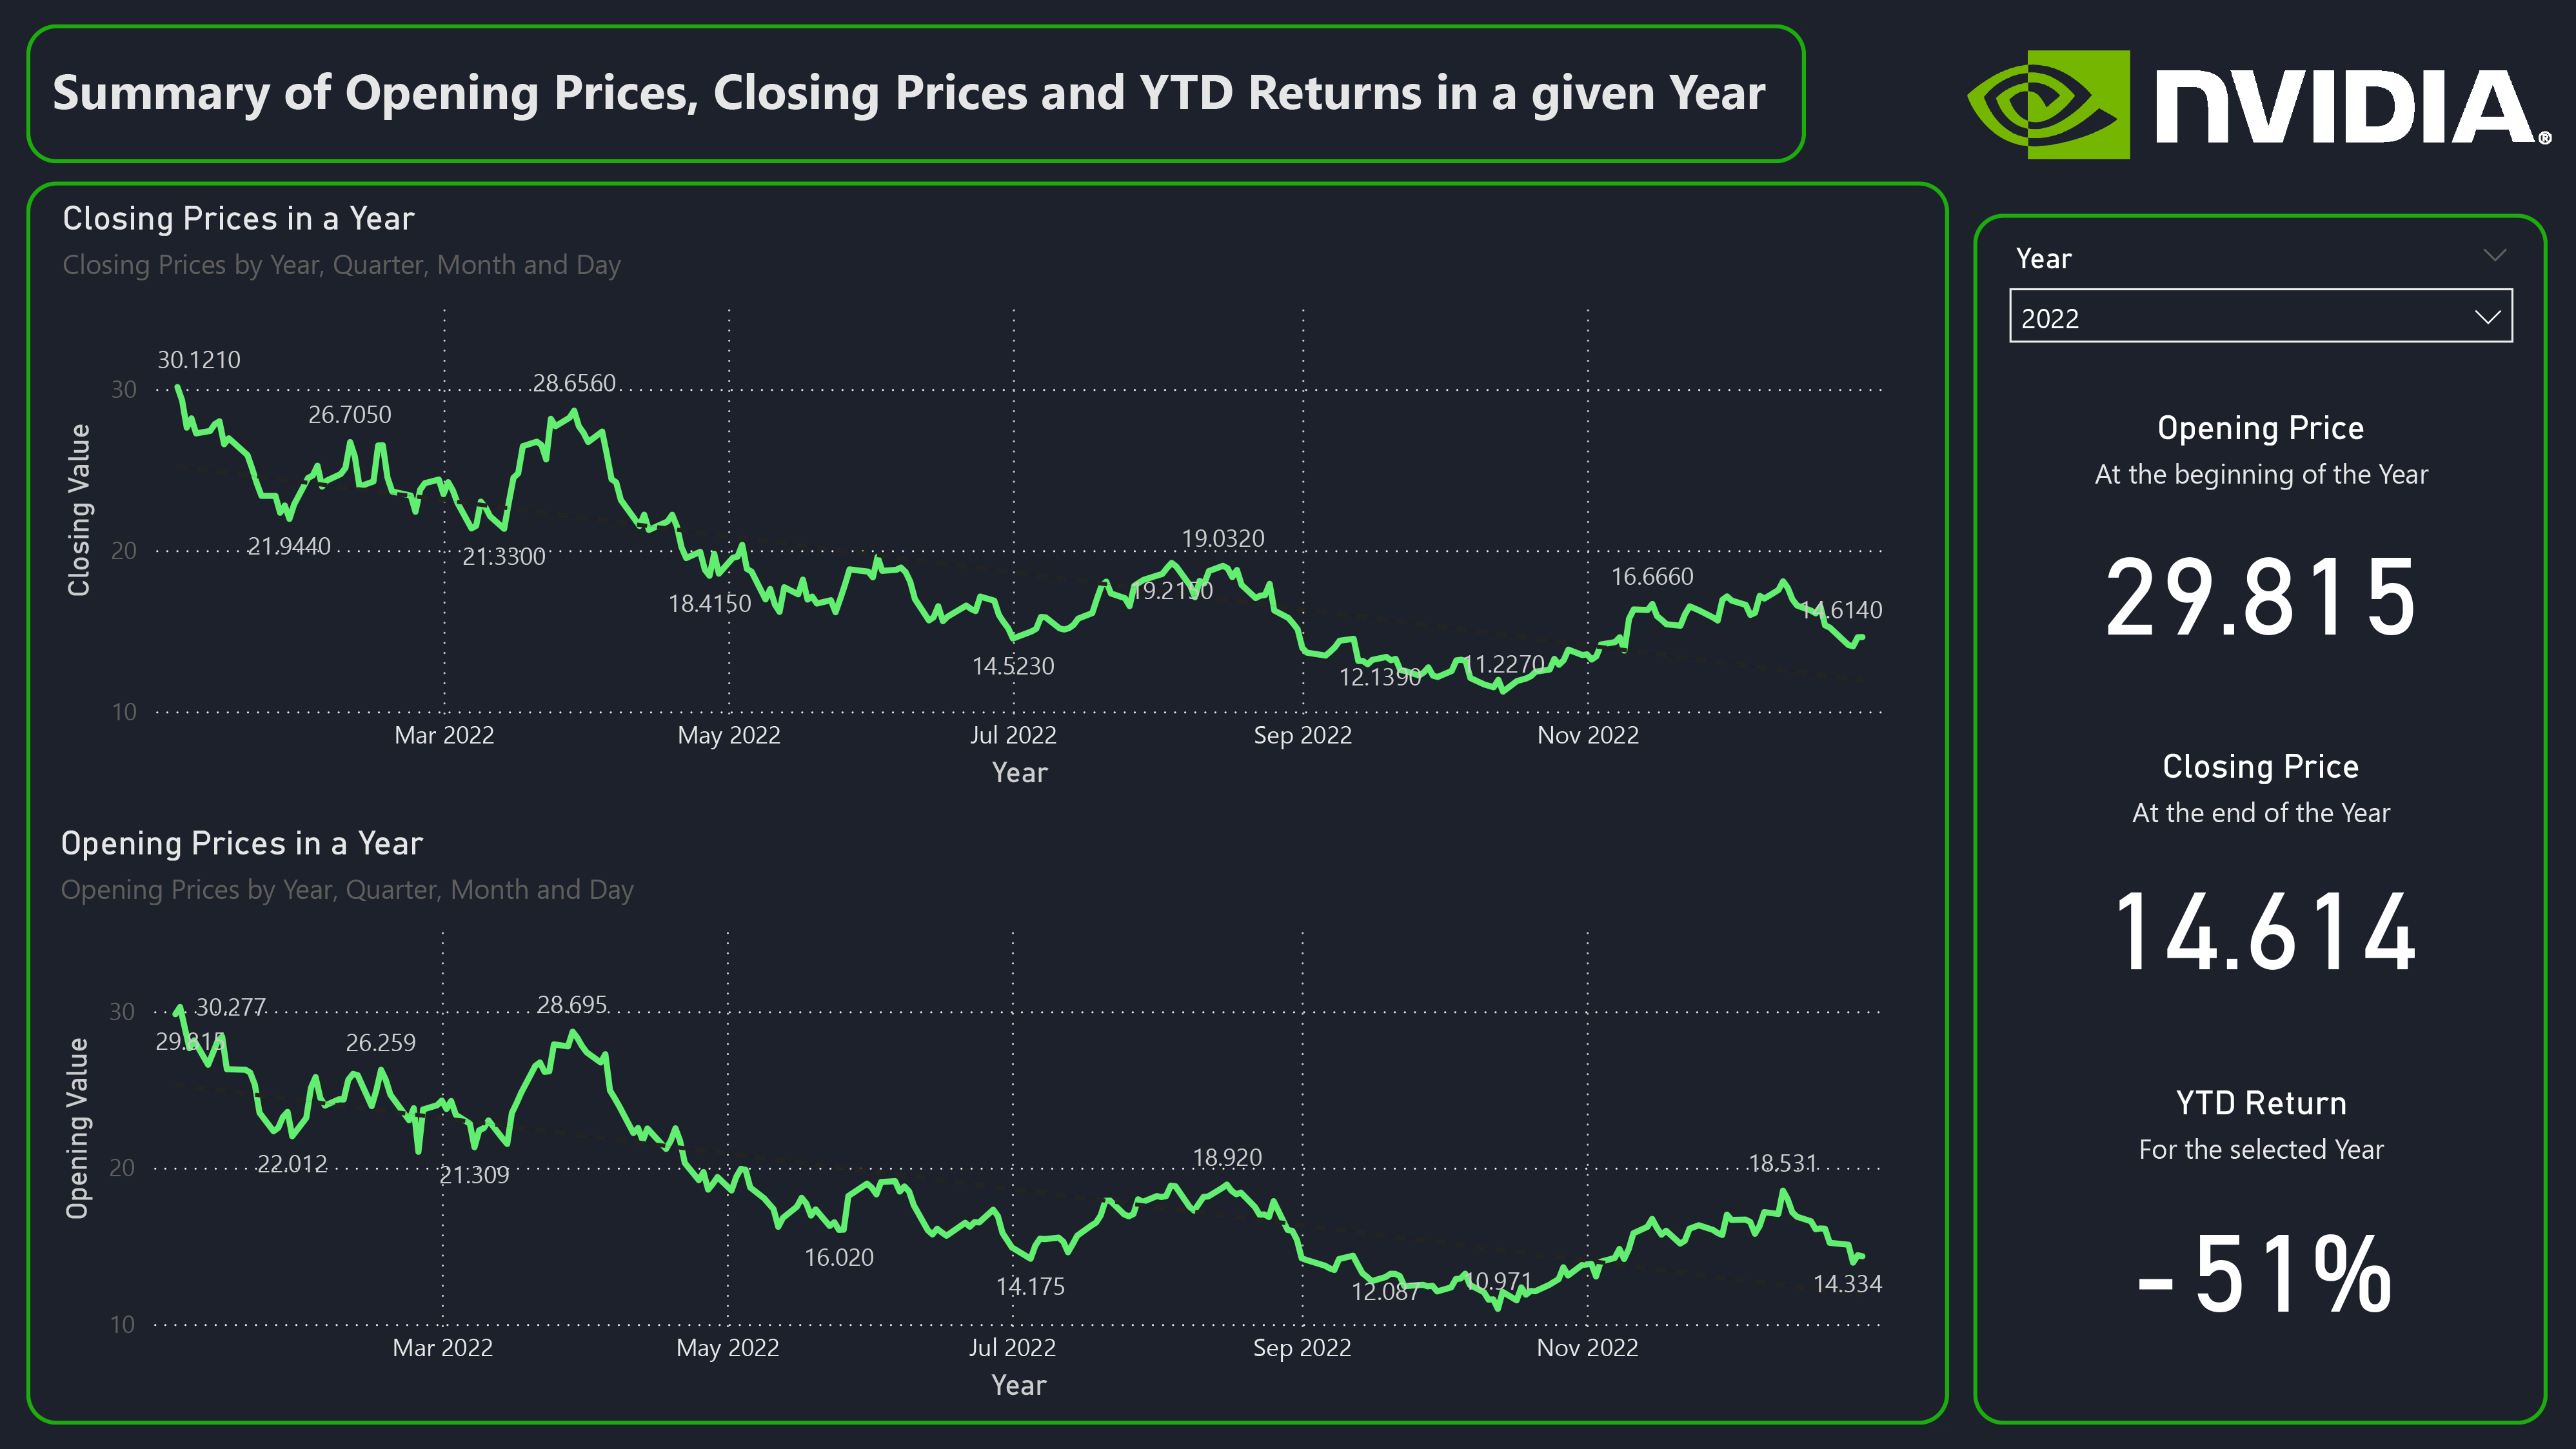

The page's visual inventory and layout, read from the dashboard file:
{"tool":"powerbi","page":{"name":"Summary","canvas":[1280,720],"ordinal":0},"visuals":[{"type":"shape","box":[14.1,91.1,953.4,616.8],"z":0},{"type":"shape","box":[979.6,107.2,285.2,600.7],"z":1000},{"type":"lineChart","title":"Closing Prices in a Year","fields":{"Category":["NVIDIA.Date.Variation.Date Hierarchy.Year","NVIDIA.Date.Variation.Date Hierarchy.Quarter","NVIDIA.Date.Variation.Date Hierarchy.Month","NVIDIA.Date.Variation.Date Hierarchy.Day"],"Y":["Max(NVIDIA.Close)"]},"box":[26.7,99.5,928.9,297.3],"z":2000},{"type":"slicer","fields":{"Values":["NVIDIA.Year"]},"box":[987.6,116.4,269.9,70.6],"z":3000},{"type":"lineChart","title":"Opening Prices in a Year","fields":{"Category":["NVIDIA.Date.Variation.Date Hierarchy.Year","NVIDIA.Date.Variation.Date Hierarchy.Quarter","NVIDIA.Date.Variation.Date Hierarchy.Month","NVIDIA.Date.Variation.Date Hierarchy.Day"],"Y":["Min(NVIDIA.Open)"]},"box":[26.4,409.2,929.3,291.3],"z":4000},{"type":"kpi","title":"Closing Price","fields":{"TrendLine":["NVIDIA.Year"],"Indicator":["NVIDIA.LatestPrice"]},"box":[987.7,371.3,270.1,142.1],"z":5000},{"type":"kpi","title":"Opening Price","fields":{"TrendLine":["NVIDIA.Date.Variation.Date Hierarchy.Year"],"Indicator":["NVIDIA.MinYear"]},"box":[987.7,202.9,270.1,145.1],"z":6000},{"type":"kpi","title":"YTD Return","fields":{"Indicator":["NVIDIA.YTD Return"],"TrendLine":["NVIDIA.Year"]},"box":[987.7,537.6,270.1,148.2],"z":7000},{"type":"textbox","title":"Summary of Opening Prices, Closing Prices and YTD Returns in a given Year","box":[22.1,23.7,892.6,58.1],"z":8000},{"type":"shape","box":[14.1,13.5,882.9,68.5],"z":9000},{"type":"image","box":[971.6,8,299.9,89.1],"z":10000}]}

Visuals, with their boxes in screenshot pixels (x1, y1, x2, y2), scaled from the page's 1280x720 canvas onto the 2576x1449 screenshot:
shape: crop(28, 183, 1947, 1424)
shape: crop(1972, 216, 2546, 1424)
"Closing Prices in a Year" lineChart: crop(54, 201, 1923, 798)
slicer - NVIDIA.Year: crop(1988, 234, 2531, 377)
"Opening Prices in a Year" lineChart: crop(53, 823, 1923, 1410)
"Closing Price" kpi: crop(1988, 747, 2531, 1033)
"Opening Price" kpi: crop(1988, 408, 2531, 700)
"YTD Return" kpi: crop(1988, 1082, 2531, 1380)
"Summary of Opening Prices, Closing Prices and YTD Returns in a given Year" textbox: crop(45, 48, 1841, 164)
shape: crop(28, 27, 1805, 165)
image: crop(1956, 16, 2559, 195)
